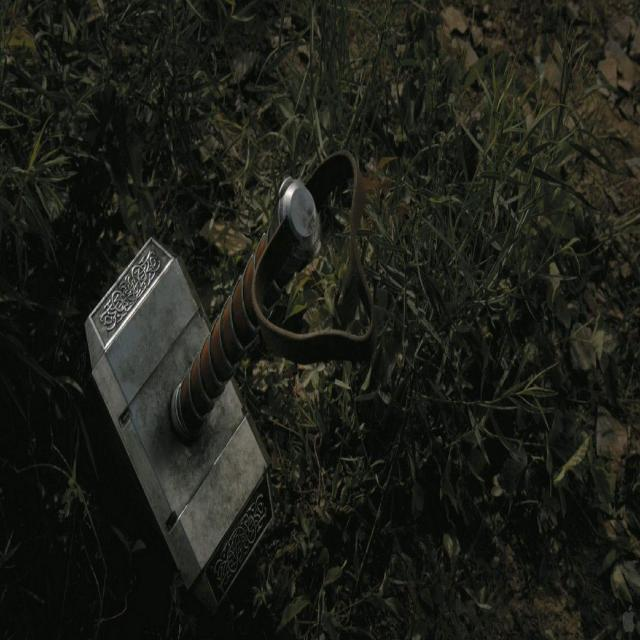hammer: (76, 164, 334, 628)
